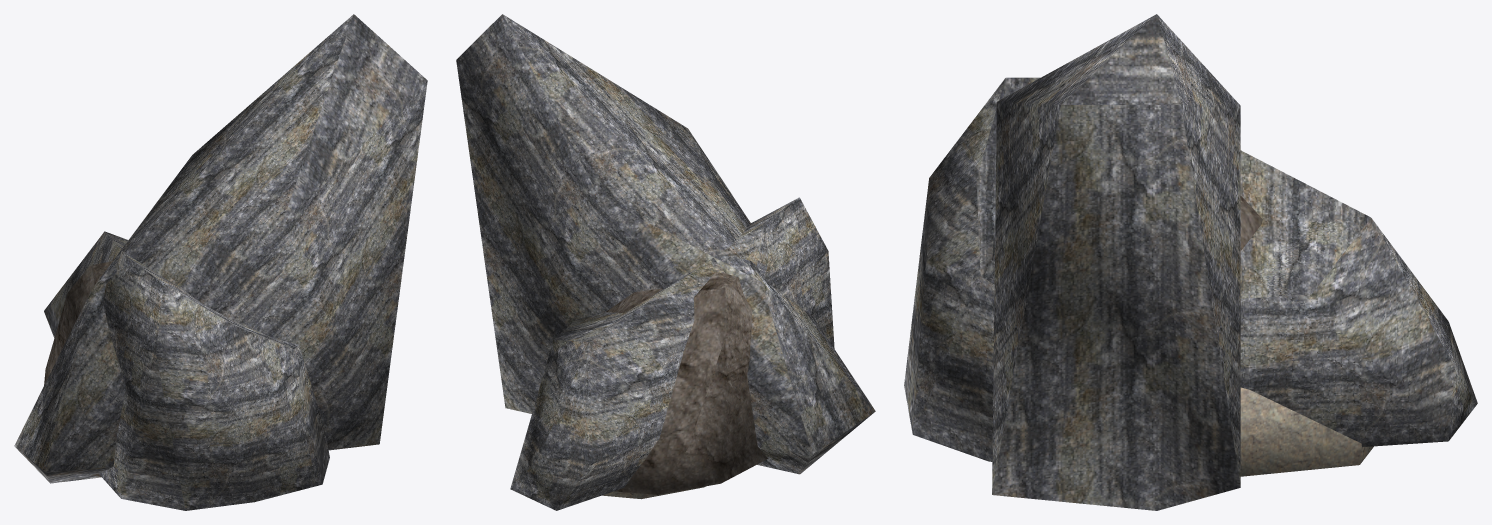
Rendered from Rocks.fbx.
3 renders of one model, left to right at view 1: azimuth 30°, elevation 25°; view 2: azimuth 150°, elevation 25°; view 3: azimuth 270°, elevation 25°, orthographic. The views are drawn at different scales.
Visible parts, largest first — view 1: Rock 9, Rock 6, Rock 5; view 2: Rock 9, Rock 6, Rock 5; view 3: Rock 9, Rock 6, Rock 4, Rock 5.
Part boxes in pixels (x1,y1,x2,y2): Rock 9: (14,14,427,483); Rock 6: (44,231,329,510); Rock 5: (44,261,112,476); Rock 9: (456,14,875,474); Rock 6: (510,197,834,510); Rock 5: (606,272,767,494); Rock 9: (992,14,1240,510); Rock 6: (904,77,1477,461); Rock 4: (1240,387,1373,476); Rock 5: (1240,196,1262,250).
Size of the model in its own units: 3.87 by 3.83 by 3.75.
3 materials, 3 textured.
